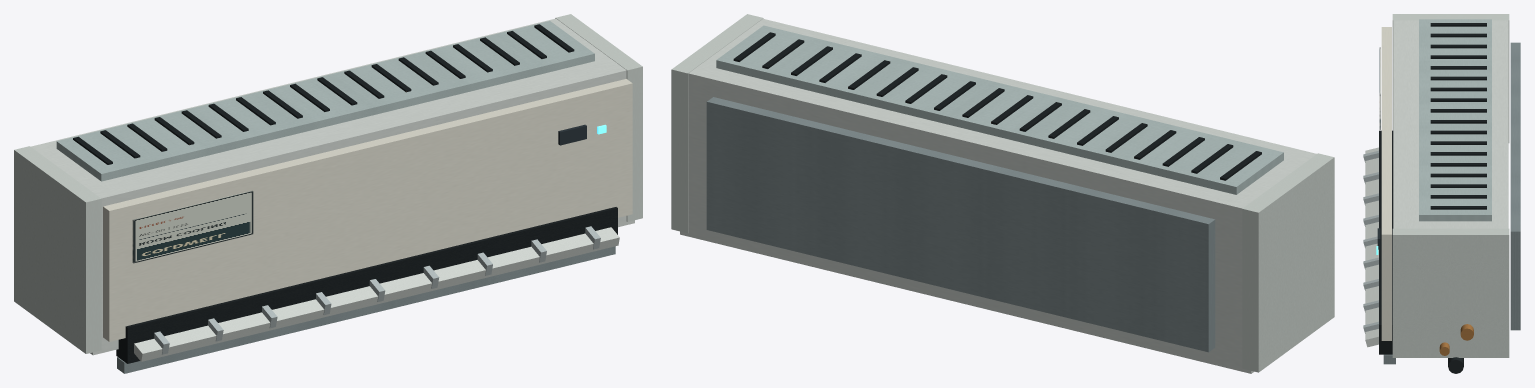
File: PZ_Wall_Mounted_AC.glb
The picture shows the model from 3 angles, left to right: view 1: azimuth 30°, elevation 25°; view 2: azimuth 150°, elevation 25°; view 3: azimuth 270°, elevation 25°; orthographic projection. The views are drawn at different scales.
Parts seen in each view (by area): view 1: WALLAC_FrontCurvedLip, WALLAC_TopIntakeGrille, WALLAC_BodyABS, WALLAC_ServiceEndcap_L, WALLAC_LowerOutletCavity, WALLAC_SwingLouver, WALLAC_BrandBadge, WALLAC_CondensateDrainLip, WALLAC_ServiceEndcap_R; view 2: WALLAC_Backplate, WALLAC_BodyABS, WALLAC_TopIntakeGrille, WALLAC_ServiceEndcap_L, WALLAC_ServiceEndcap_R; view 3: WALLAC_ServiceEndcap_R, WALLAC_TopIntakeGrille, WALLAC_BodyABS, WALLAC_FrontCurvedLip, WALLAC_Backplate, WALLAC_SwingLouver, WALLAC_ServiceEndcap_L, WALLAC_LowerOutletCavity, WALLAC_TopIntakeSlot_01, WALLAC_TopIntakeSlot_02, WALLAC_TopIntakeSlot_05, WALLAC_TopIntakeSlot_06 (+17 smaller).
Boxes of the visible parts, x1,y1,x2,y2 form: WALLAC_FrontCurvedLip: [103, 79, 632, 341]; WALLAC_TopIntakeGrille: [56, 21, 594, 181]; WALLAC_BodyABS: [31, 18, 634, 355]; WALLAC_ServiceEndcap_L: [14, 146, 101, 353]; WALLAC_LowerOutletCavity: [116, 207, 617, 363]; WALLAC_SwingLouver: [134, 227, 619, 361]; WALLAC_BrandBadge: [132, 190, 253, 263]; WALLAC_CondensateDrainLip: [117, 246, 615, 373]; WALLAC_ServiceEndcap_R: [555, 14, 642, 221]; WALLAC_Backplate: [706, 97, 1215, 352]; WALLAC_BodyABS: [680, 18, 1316, 373]; WALLAC_TopIntakeGrille: [716, 25, 1283, 194]; WALLAC_ServiceEndcap_L: [1242, 153, 1334, 372]; WALLAC_ServiceEndcap_R: [671, 14, 763, 233]; WALLAC_ServiceEndcap_R: [1392, 228, 1509, 357]; WALLAC_TopIntakeGrille: [1419, 19, 1491, 221]; WALLAC_BodyABS: [1393, 20, 1508, 228]; WALLAC_FrontCurvedLip: [1381, 27, 1391, 340]; WALLAC_Backplate: [1510, 42, 1520, 330]; WALLAC_SwingLouver: [1365, 147, 1378, 347]; WALLAC_ServiceEndcap_L: [1392, 14, 1509, 142]; WALLAC_LowerOutletCavity: [1379, 130, 1393, 354]; WALLAC_TopIntakeSlot_01: [1430, 33, 1486, 37]; WALLAC_TopIntakeSlot_02: [1430, 44, 1486, 48]; WALLAC_TopIntakeSlot_05: [1430, 76, 1486, 80]; WALLAC_TopIntakeSlot_06: [1430, 87, 1486, 91].
Size of the model in its own units: 0.949 by 0.2975 by 0.2798.
2 materials, 2 textured.
